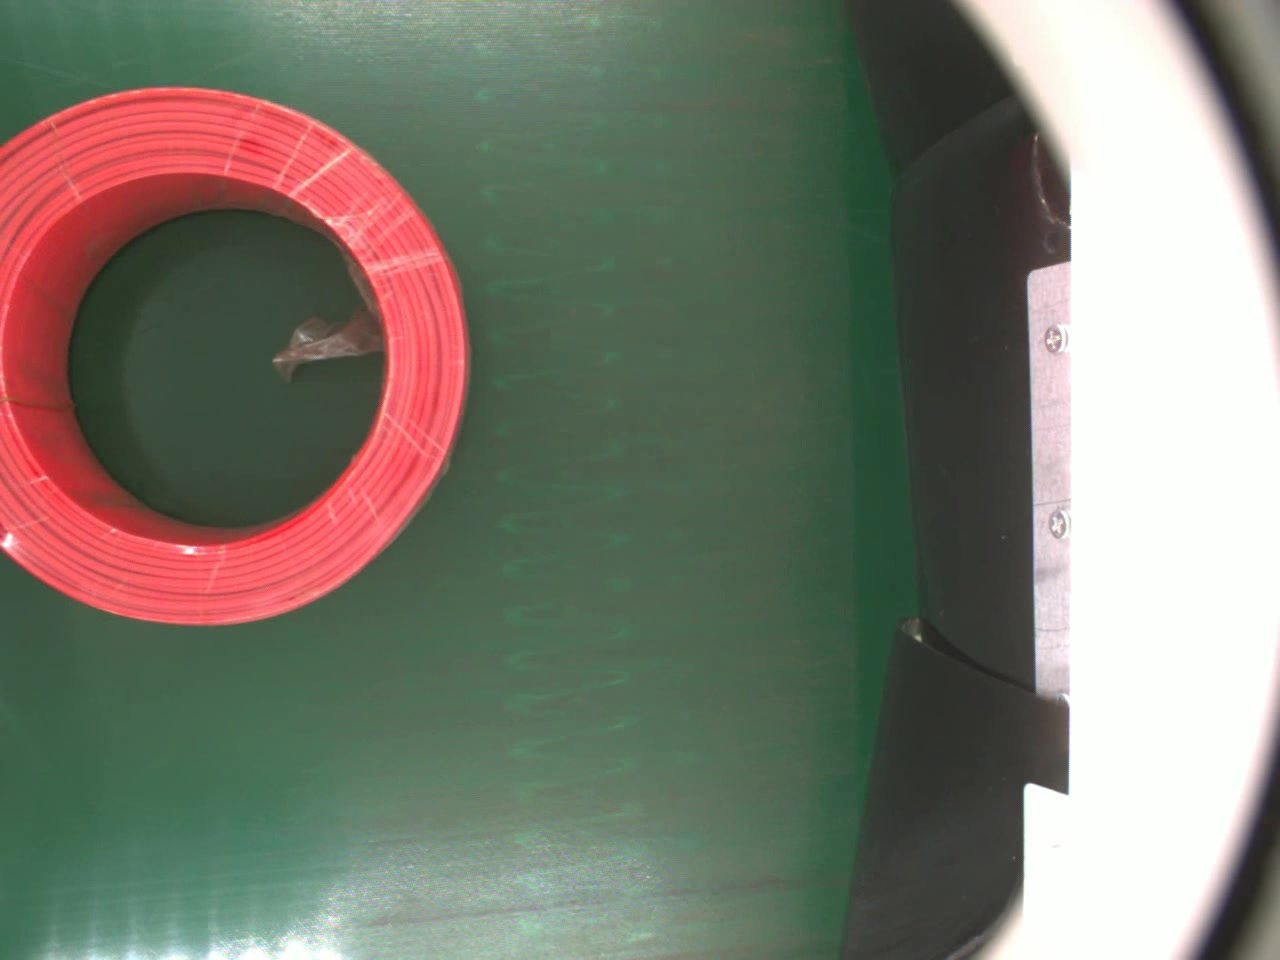red: (0, 83, 470, 632)
